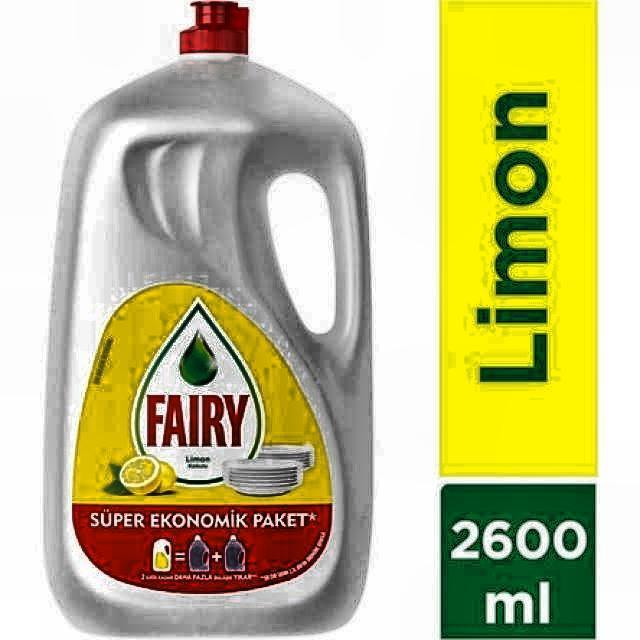plastic: (26, 0, 379, 640)
